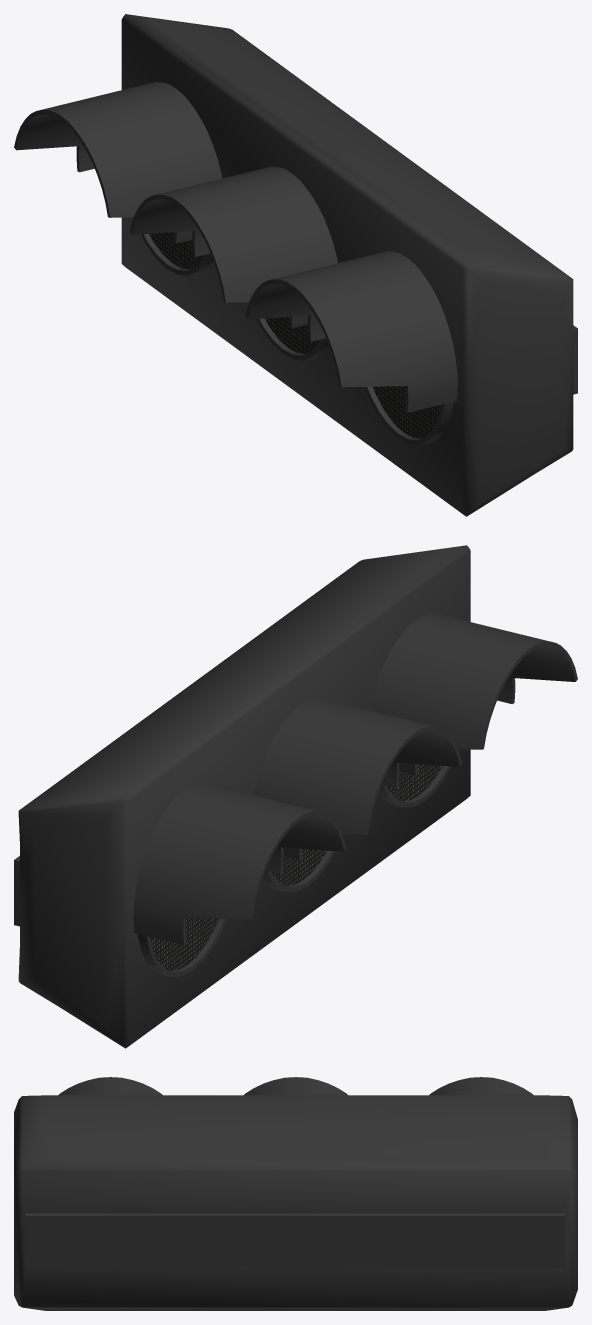
The model's file is 横向直行灯.fbx.
3 renders of one model, top to bottom at view 1: azimuth 30°, elevation 25°; view 2: azimuth 150°, elevation 25°; view 3: azimuth 270°, elevation 25°, orthographic. The views are drawn at different scales.
Parts seen in each view (by area): view 1: 横向直行灯; view 2: 横向直行灯; view 3: 横向直行灯.
Part boxes in pixels (bbox=[...]): 横向直行灯: bbox=[14, 14, 577, 516]; 横向直行灯: bbox=[14, 545, 577, 1048]; 横向直行灯: bbox=[14, 1077, 577, 1310].
Size of the model in its own units: 0.6 by 0.65 by 1.58.
2 materials, 1 textured.
